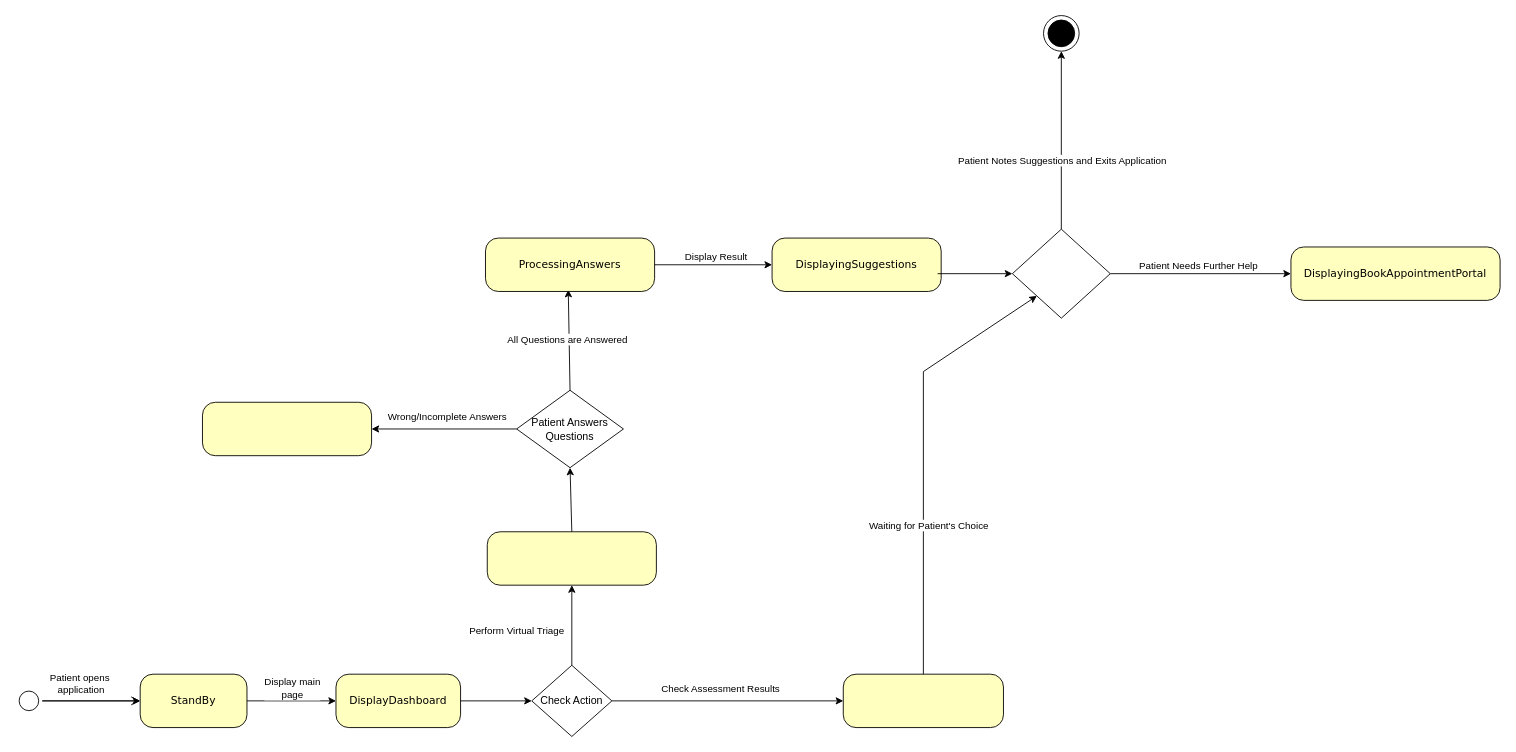
The diagram is 1516 pixels wide and 752 high, and some of its shapes have lost their labels. The centre of each missing label's shape, as x and y in pixels:
"Choose Action" belongs at [1060,273].
"DisplayAssessmentResults" belongs at [922,700].
"DisplayVirtualTriagePortal" belongs at [571,558].
"NotifyUserToRetakeTest" belongs at [287,428].
